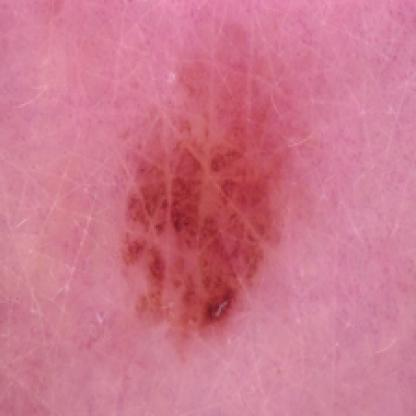benign: (113, 35, 303, 332)
